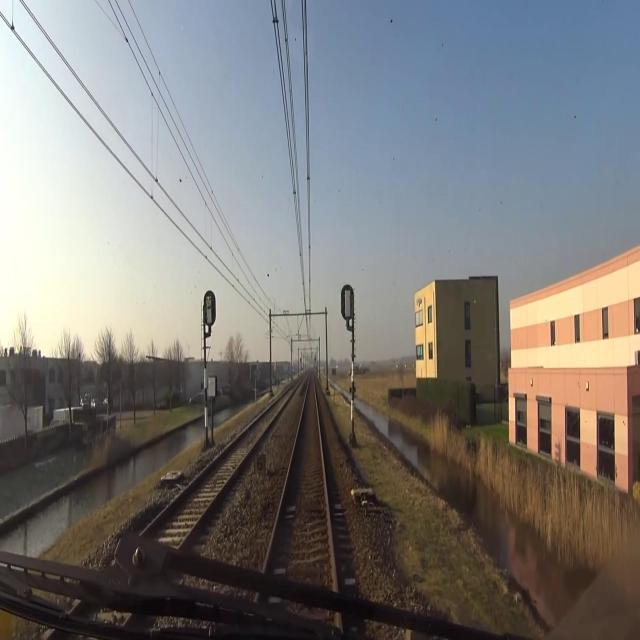rail-track: (143, 392, 289, 548), (265, 379, 333, 596)
